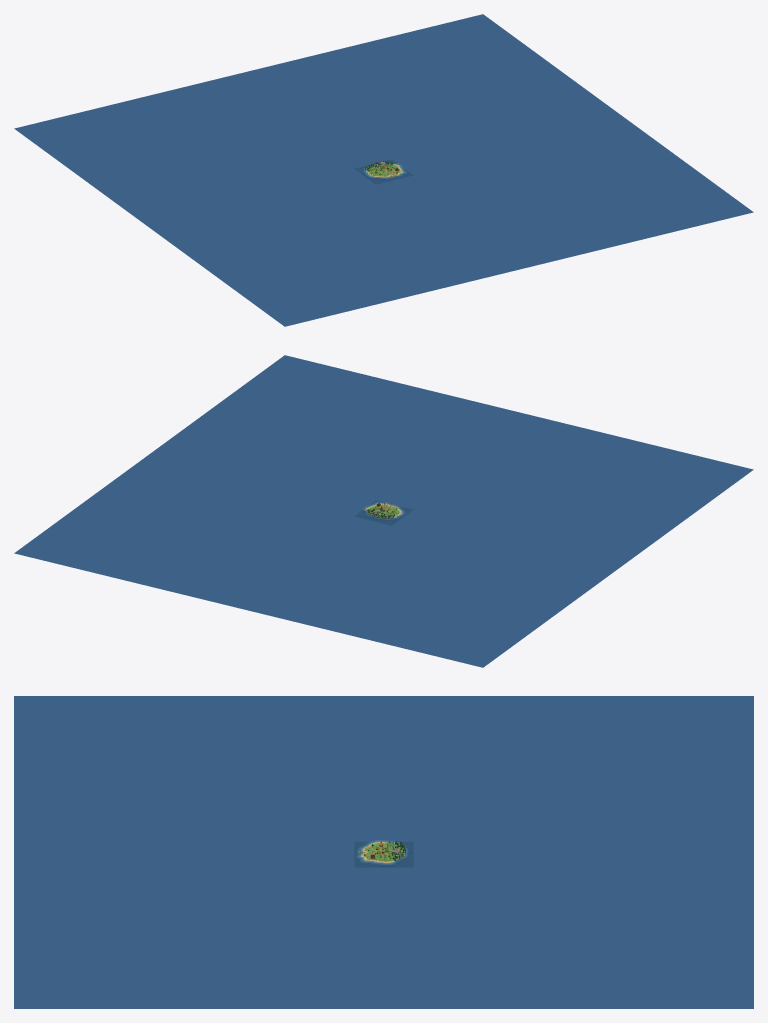
Rendered from VikingIsland_Scene.glb.
The picture shows the model from 3 angles, top to bottom: view 1: azimuth 30°, elevation 25°; view 2: azimuth 150°, elevation 25°; view 3: azimuth 270°, elevation 25°; orthographic projection. The views are drawn at different scales.
Visible parts, largest first — view 1: Water_Surface; view 2: Water_Surface; view 3: Water_Surface.
Boxes of the visible parts, x1,y1,x2,y2 form: Water_Surface: (14,14,753,326); Water_Surface: (14,355,753,667); Water_Surface: (14,696,753,1008).
Bounding box in the file's own units: 1800 × 21.7 × 1800.
